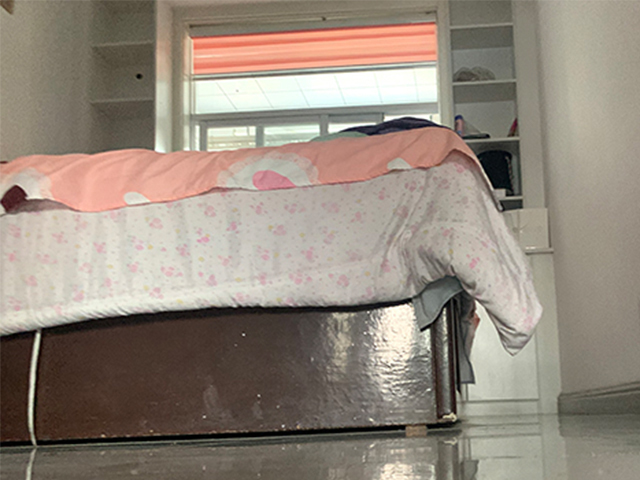bed: (1, 125, 543, 446)
